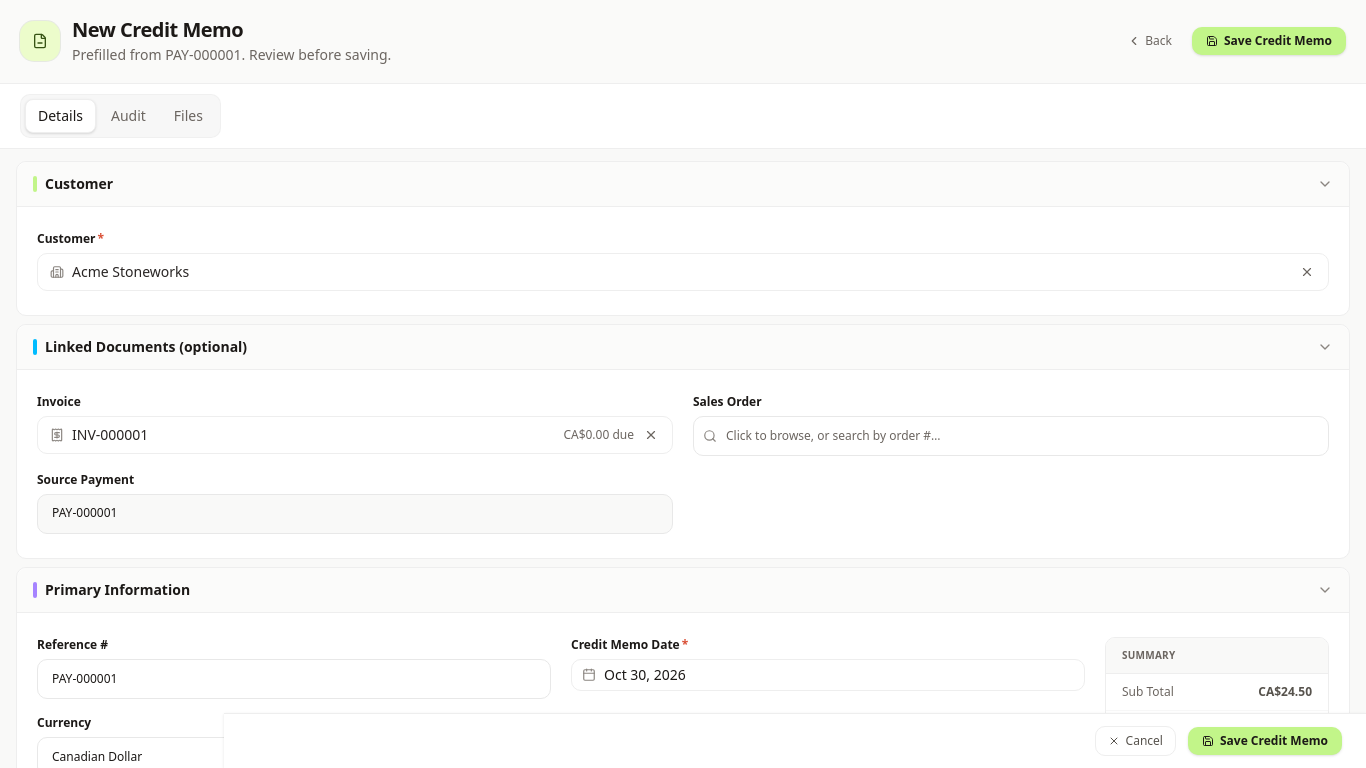
AddCreditMemoPage payment handoff › does not bring the customer back if the user cleared it before the record loaded
This screenshot has width=1366, height=768.
What coordinates should you click on to do the following:
click the button named "Change billing customer"
I would click on:
 (1307, 272)
Its box is [1298,263,1316,281].
(page scrolled)
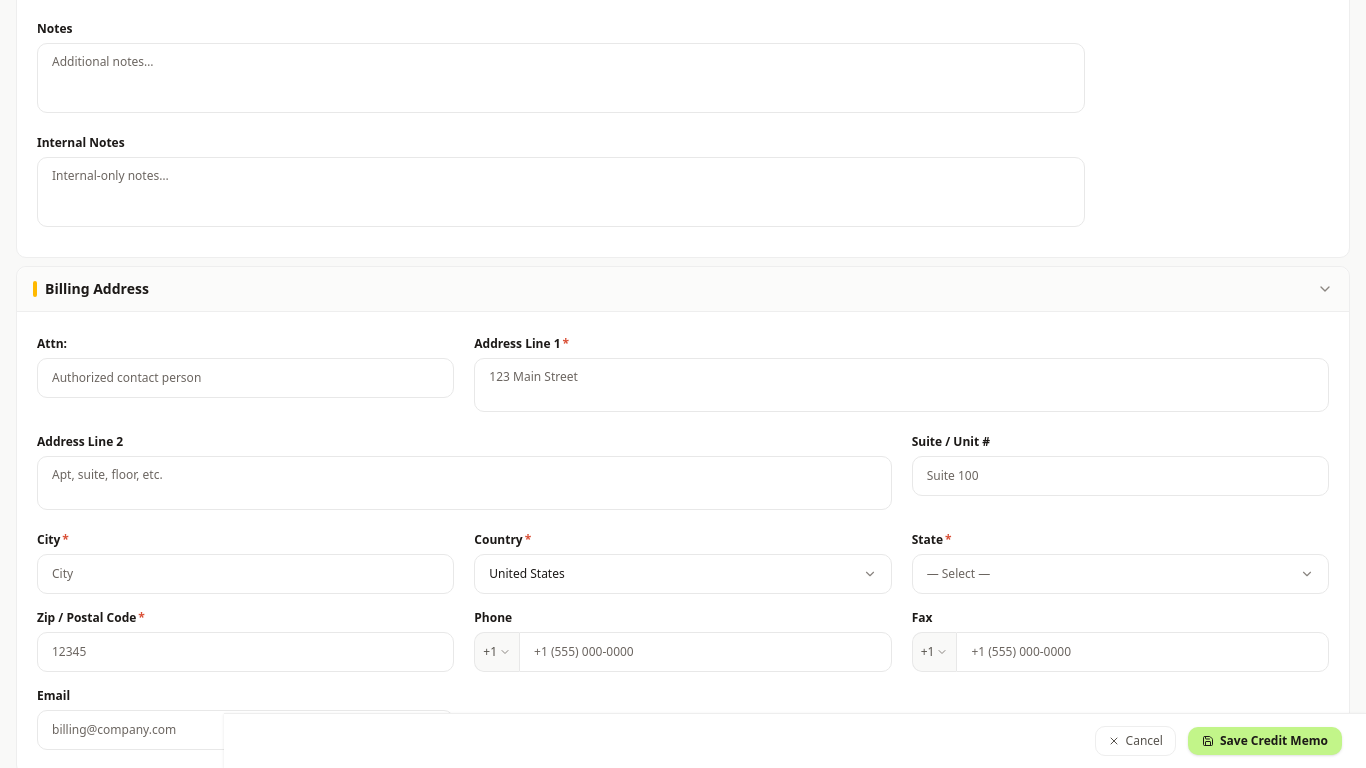
Expected: the text box named "Address Line 1" is empty, [474,358,1329,412]
Expected: the text "Acme Stoneworks" is gone
